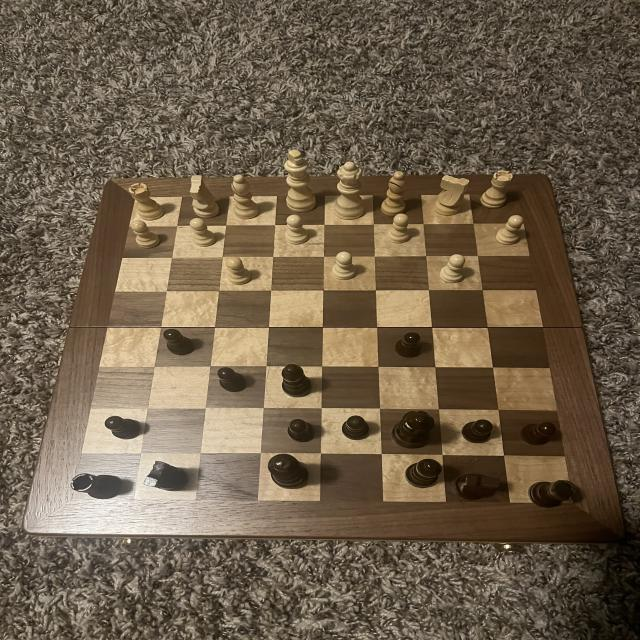bishop: (279, 361, 316, 401), (400, 457, 446, 489)
black-bishop: (263, 452, 313, 492)
black-king: (451, 469, 506, 504), (142, 458, 194, 494)
black-knight: (391, 329, 427, 362), (284, 414, 321, 446), (161, 327, 200, 357), (518, 419, 560, 446), (104, 414, 142, 442), (215, 366, 252, 394), (459, 416, 493, 446), (340, 413, 371, 442)
black-pawn: (390, 408, 438, 452)
black-queen: (68, 469, 126, 504), (527, 479, 581, 513)
black-rook: (226, 172, 264, 222), (376, 170, 412, 219)
white-bishop: (281, 146, 321, 214)
white-king: (184, 173, 226, 220), (433, 174, 472, 218)
white-knight: (126, 218, 162, 250), (494, 212, 526, 246), (328, 251, 363, 282), (282, 214, 314, 246), (187, 217, 219, 249), (436, 253, 468, 284), (224, 255, 254, 287), (386, 213, 415, 244)
white-pawn: (332, 160, 369, 222)
white-queen: (126, 181, 168, 222), (478, 168, 518, 209)
